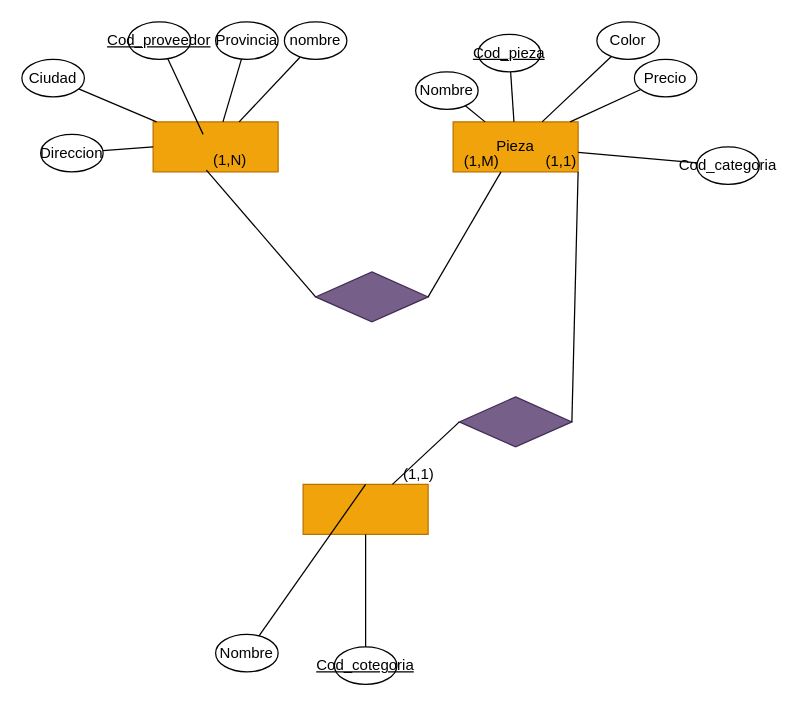
The diagram is 799 pixels wide and 706 high, and some of its shapes have lost their labels. The shapes that lost their labels are listed below. From the top down, each one's centre as x and y in pixels, then its label:
At pixel 215 146: "Probeedor".
At pixel 371 296: "Suministra".
At pixel 515 421: "Existe".
At pixel 365 508: "Categoria".
